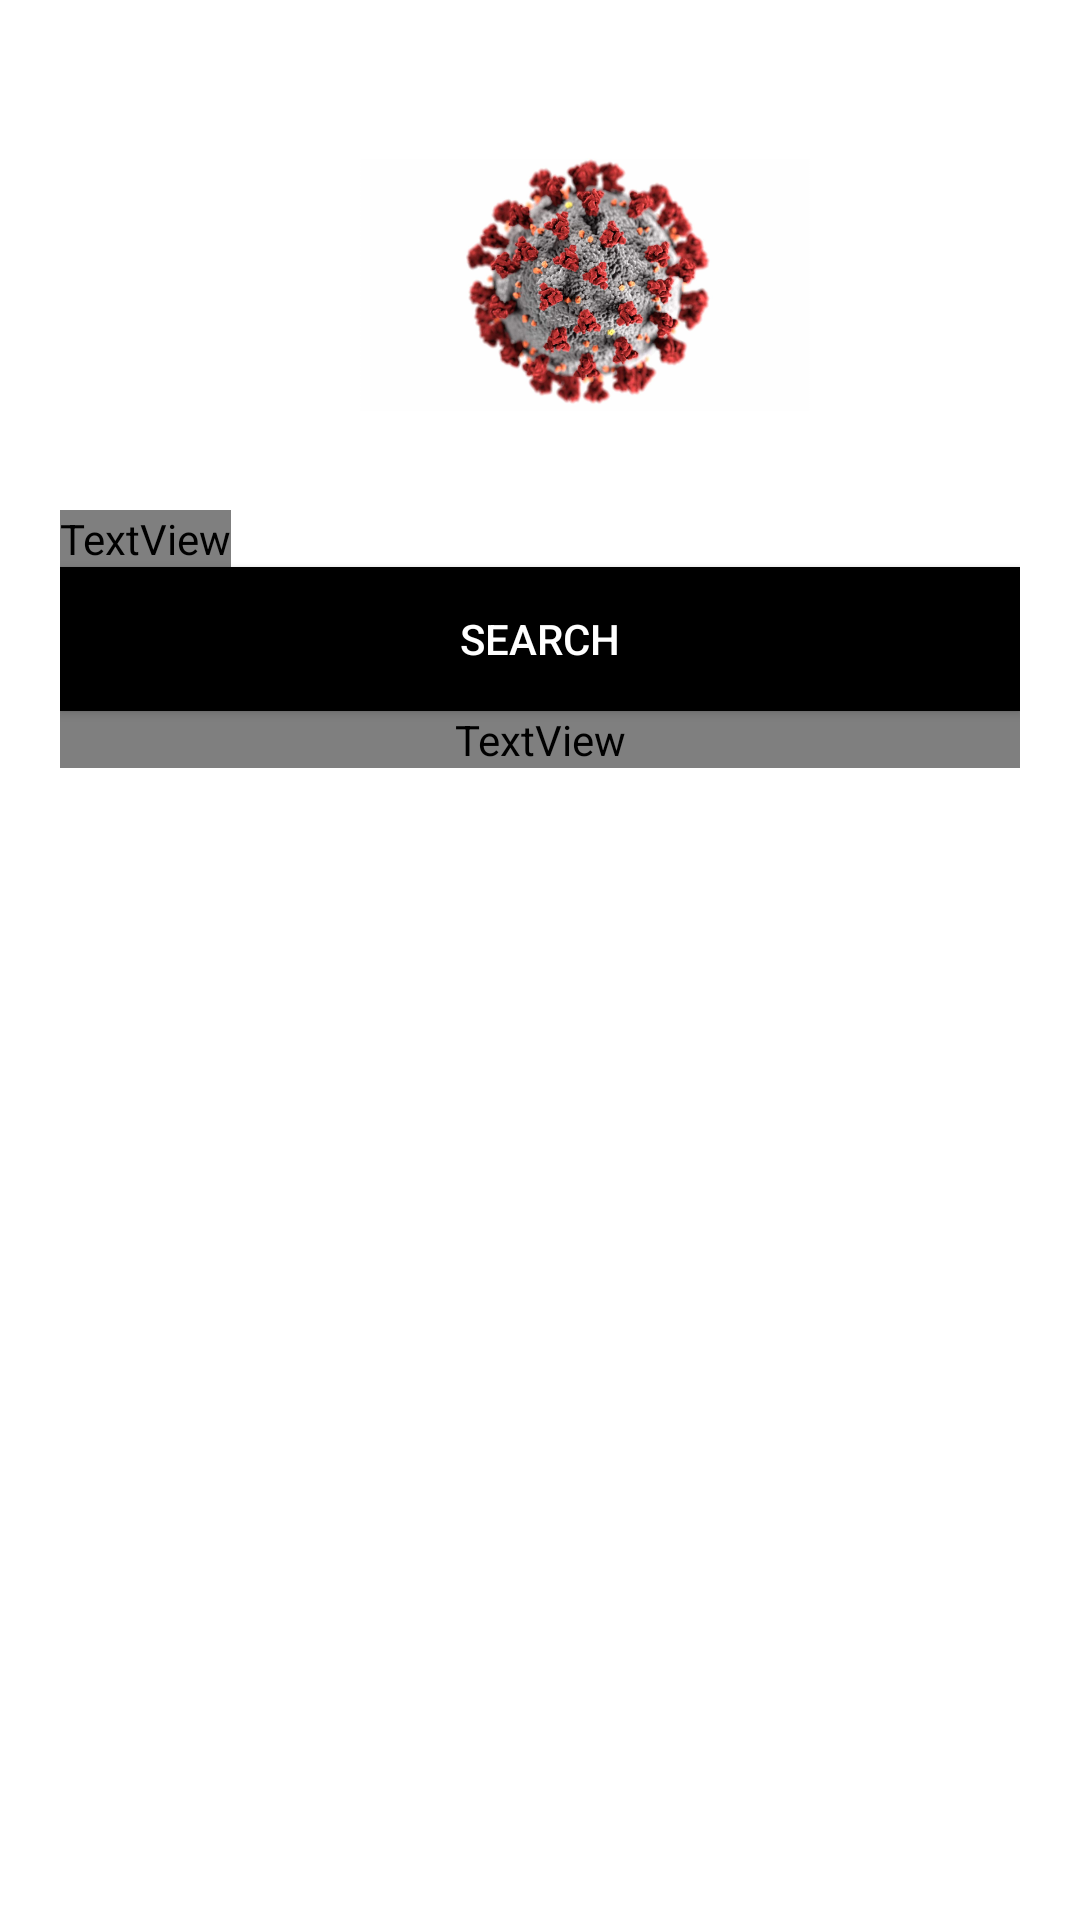

Icon click points for this 1080×1920 phone screenshot, format (x,y):
covid: (587,282)
